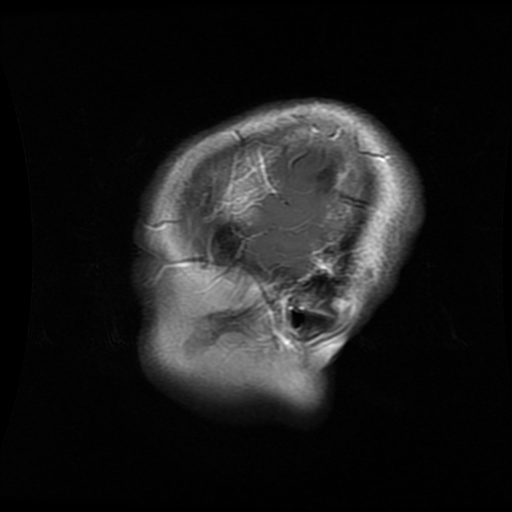glioma: (211, 141, 286, 225)
